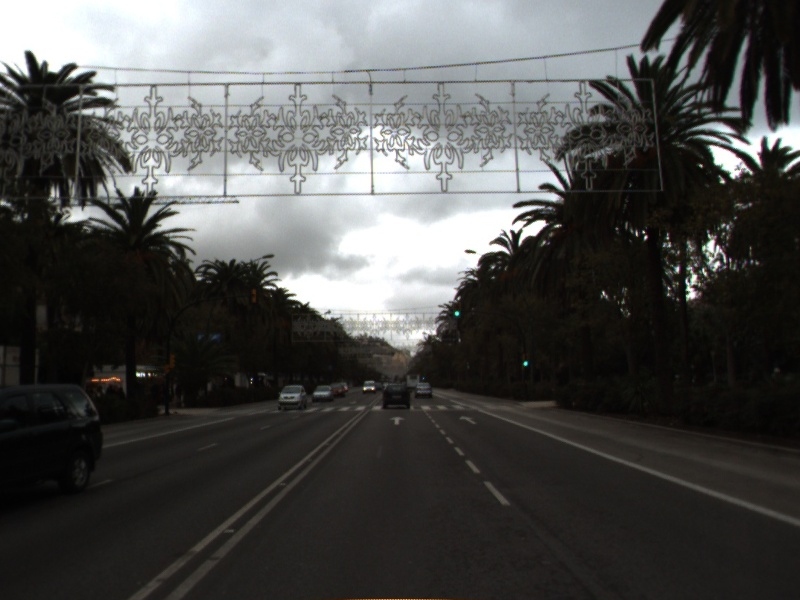STRAIGHT: (457, 413, 480, 426), (387, 414, 407, 427)
